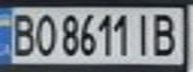1: (112, 10, 133, 56), (96, 11, 115, 56)
6: (78, 10, 96, 57)
8: (57, 10, 81, 57)
B: (6, 10, 39, 57), (148, 10, 181, 57)
I: (130, 10, 157, 56)
O: (30, 10, 57, 57)
